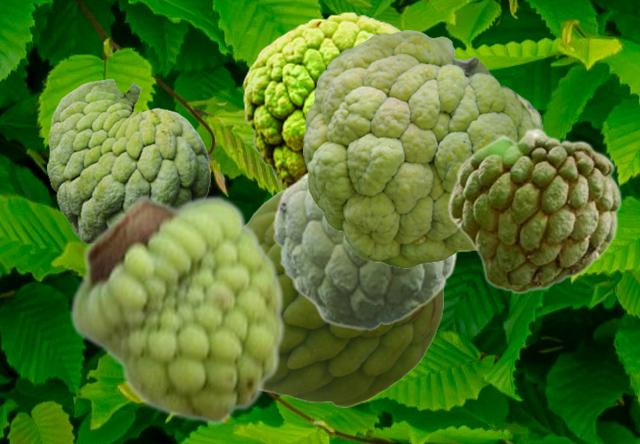atis: (303, 30, 542, 267), (70, 193, 285, 426), (247, 186, 442, 406), (272, 170, 459, 329), (446, 127, 621, 293), (242, 11, 404, 187), (47, 78, 209, 245)
